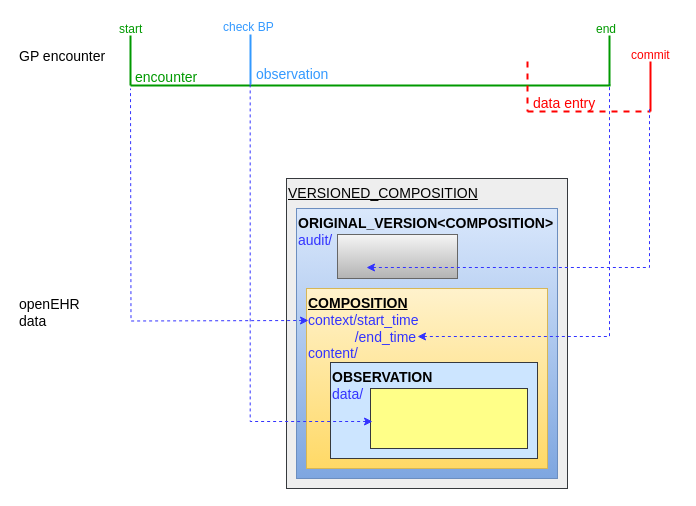
The diagram is 696 pixels wide and 506 high, and some of its shapes have lost their labels. Here are the shapes that lost their labels. From the top down, the centre of each, then its label:
(x=397, y=256): AUDIT_DETAILS time
(x=449, y=418): HISTORY origin
